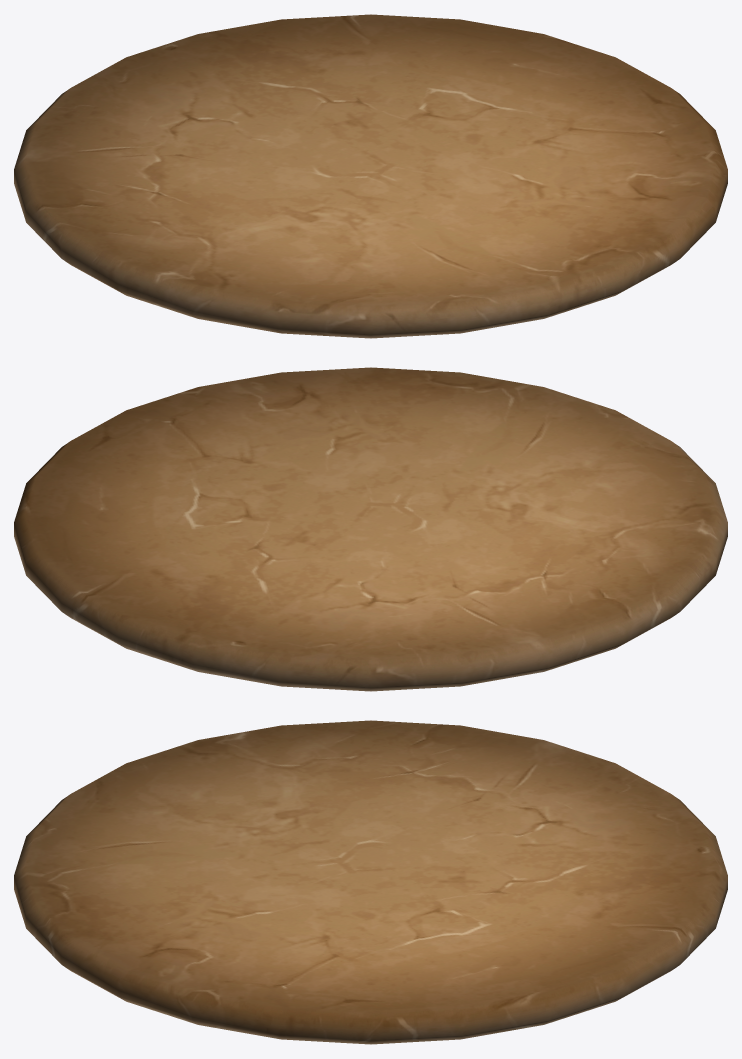
Rendered from DE_House_Mod_Part_38.fbx.
3 views of the same model, one above another, from view 1: azimuth 30°, elevation 25°; view 2: azimuth 150°, elevation 25°; view 3: azimuth 270°, elevation 25° (orthographic).
Parts seen in each view (by area): view 1: DE_House_Mod_Part_38; view 2: DE_House_Mod_Part_38; view 3: DE_House_Mod_Part_38.
Part boxes in pixels (x1=…): DE_House_Mod_Part_38: x1=14, y1=14, x2=727, y2=338; DE_House_Mod_Part_38: x1=14, y1=367, x2=727, y2=691; DE_House_Mod_Part_38: x1=14, y1=720, x2=727, y2=1044.
Size of the model in its own units: 6 by 0.2918 by 6.
